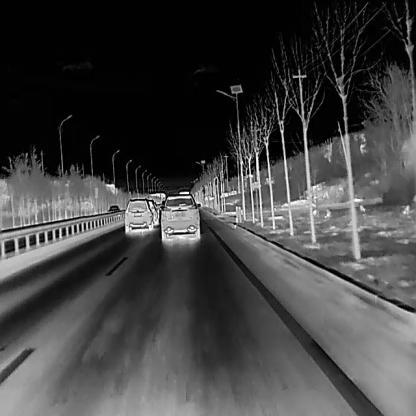car: (159, 193, 201, 243), (124, 197, 152, 234), (146, 199, 159, 226), (105, 205, 120, 219)
